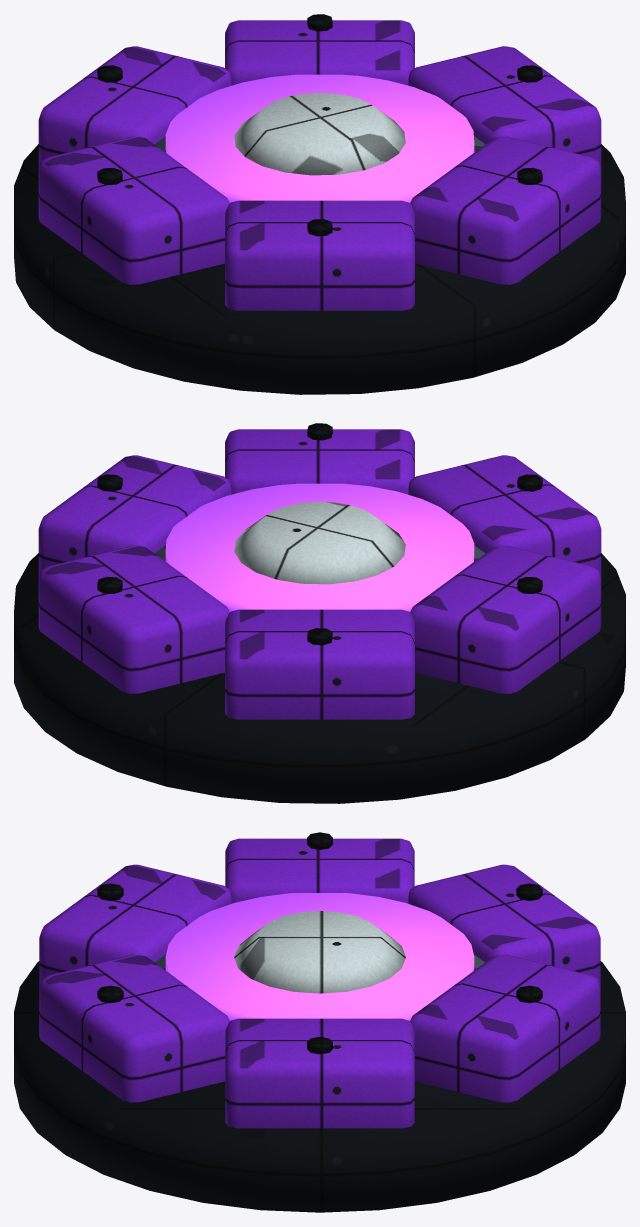
Rendered from mines.glb.
3 renders of one model, top to bottom at view 1: azimuth 30°, elevation 25°; view 2: azimuth 150°, elevation 25°; view 3: azimuth 270°, elevation 25°, orthographic.
Parts seen in each view (by area): view 1: mines mines-enamel, mines Graphite, mines mines-emitter, mines Ceramic; view 2: mines mines-enamel, mines Graphite, mines mines-emitter, mines Ceramic; view 3: mines mines-enamel, mines Graphite, mines mines-emitter, mines Ceramic.
Part boxes in pixels (bbox=[...]): mines mines-enamel: bbox=[38, 20, 601, 310]; mines Graphite: bbox=[14, 14, 625, 394]; mines mines-emitter: bbox=[165, 74, 474, 202]; mines Ceramic: bbox=[234, 93, 405, 175]; mines mines-enamel: bbox=[38, 429, 601, 719]; mines Graphite: bbox=[14, 423, 625, 803]; mines mines-emitter: bbox=[165, 483, 474, 611]; mines Ceramic: bbox=[234, 502, 405, 584]; mines mines-enamel: bbox=[39, 838, 600, 1128]; mines Graphite: bbox=[14, 832, 625, 1212]; mines mines-emitter: bbox=[165, 893, 474, 1020]; mines Ceramic: bbox=[234, 911, 405, 993].
Size of the model in its own units: 2.1 by 0.6 by 2.1.
Materials: 5 (4 with a texture image).
